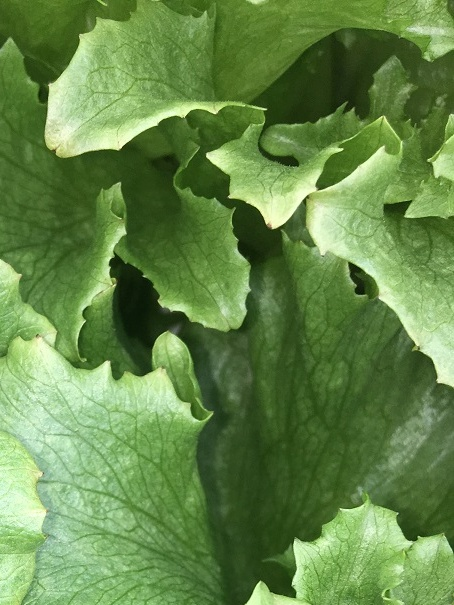tipburn: (43, 136, 69, 164), (98, 273, 122, 300), (260, 214, 282, 237), (29, 462, 52, 484), (29, 327, 51, 349), (369, 286, 392, 307), (109, 138, 129, 159), (36, 502, 57, 521), (112, 210, 131, 231), (154, 359, 173, 379), (406, 338, 424, 359), (205, 102, 224, 121), (429, 371, 448, 390), (42, 76, 60, 93), (37, 534, 54, 550), (315, 247, 330, 262), (303, 190, 318, 205)
